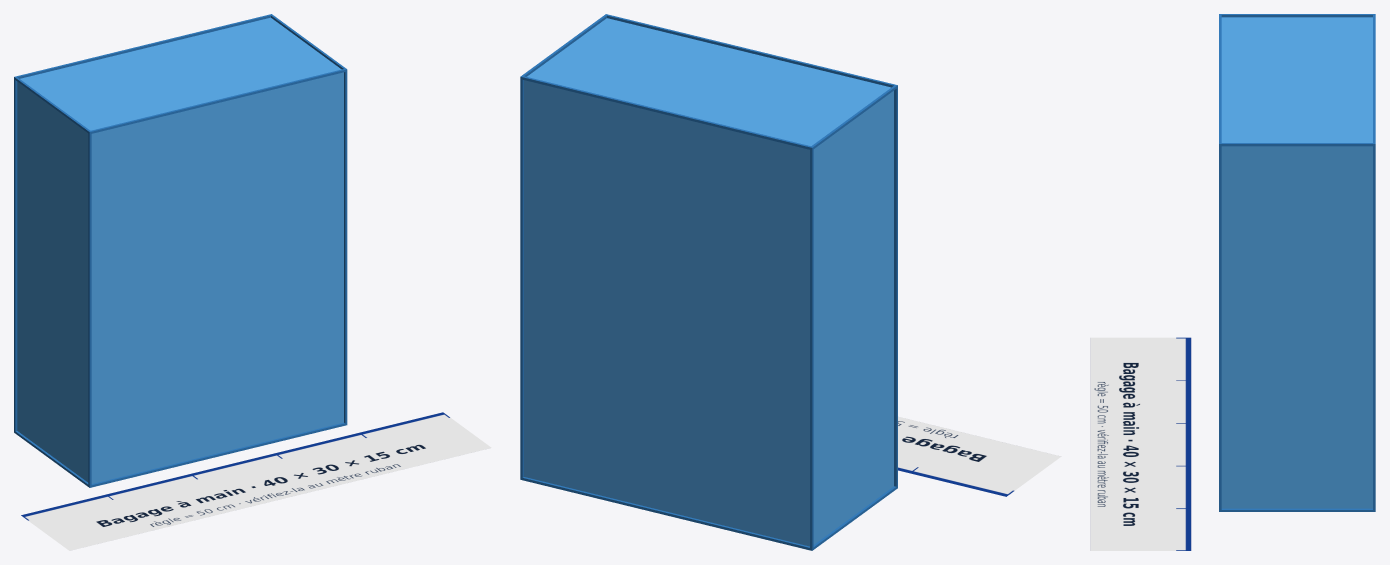
Rendered from gabarit-main-v4.glb.
3 views of the same model, side by side, from view 1: azimuth 30°, elevation 25°; view 2: azimuth 150°, elevation 25°; view 3: azimuth 270°, elevation 25° (orthographic). The views are drawn at different scales.
Parts seen in each view (by area): view 1: volume, etiquette, aretes; view 2: volume, aretes, etiquette; view 3: volume, etiquette, aretes.
Part boxes in pixels (left/top/right/bottom): volume: left=17, top=17, right=343, bottom=483; etiquette: left=21, top=412, right=491, bottom=550; aretes: left=14, top=14, right=347, bottom=487; volume: left=524, top=18, right=893, bottom=546; aretes: left=520, top=14, right=897, bottom=550; etiquette: left=898, top=416, right=1061, bottom=496; volume: left=1221, top=17, right=1372, bottom=508; etiquette: left=1090, top=337, right=1191, bottom=550; aretes: left=1219, top=14, right=1375, bottom=511.
Size of the model in its own units: 0.5 by 0.4025 by 0.2825.
4 materials, 1 textured.
